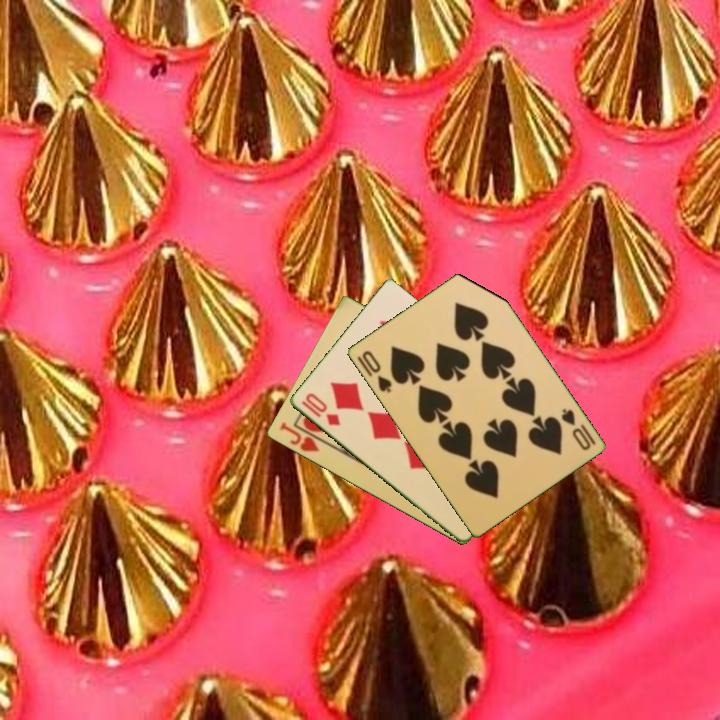10d: (297, 389, 343, 429)
10s: (557, 405, 598, 453), (358, 347, 394, 395)
Jh: (275, 419, 322, 455)
